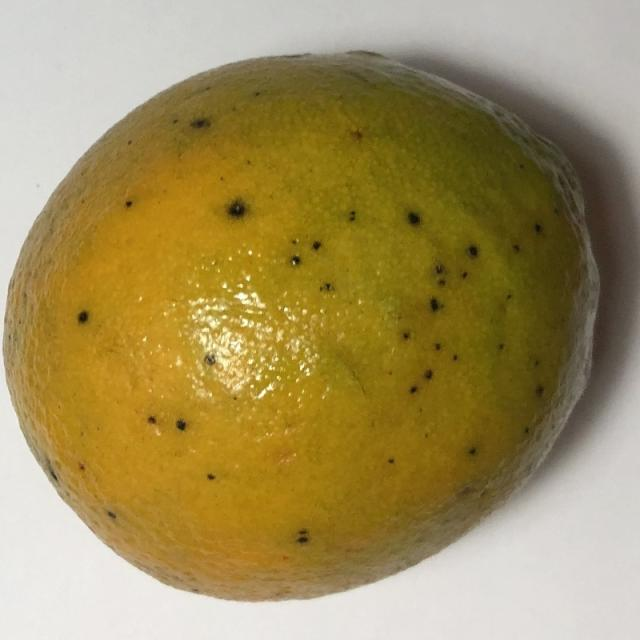black spot: (1, 37, 626, 612)
